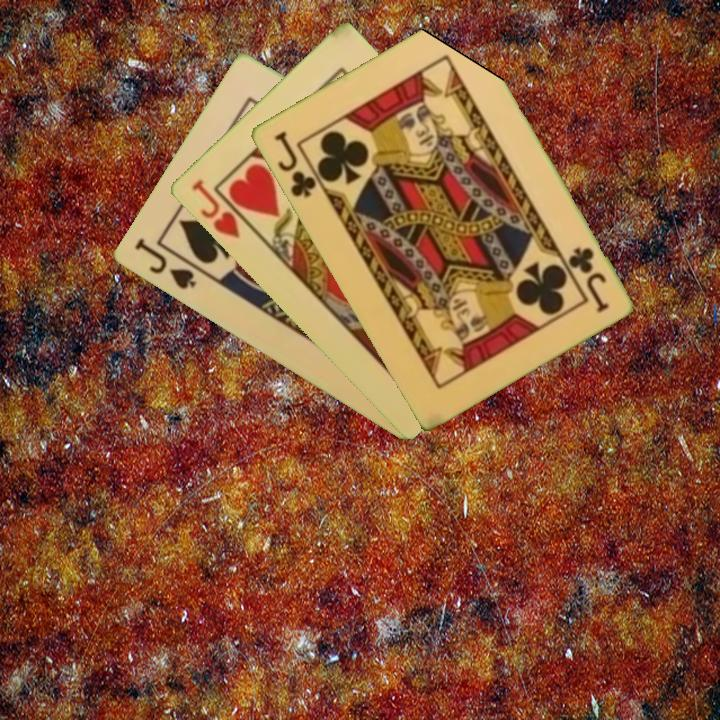Jc: (270, 127, 319, 200), (564, 243, 612, 315)
Jh: (187, 175, 257, 242)
Js: (130, 234, 199, 293)
